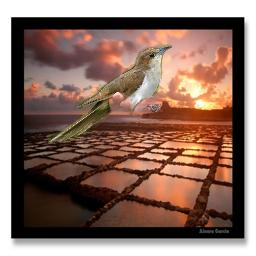Cuckoo: (47, 44, 172, 143)
